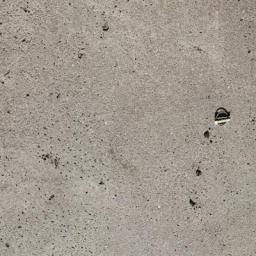FOD: (212, 106, 235, 131)
